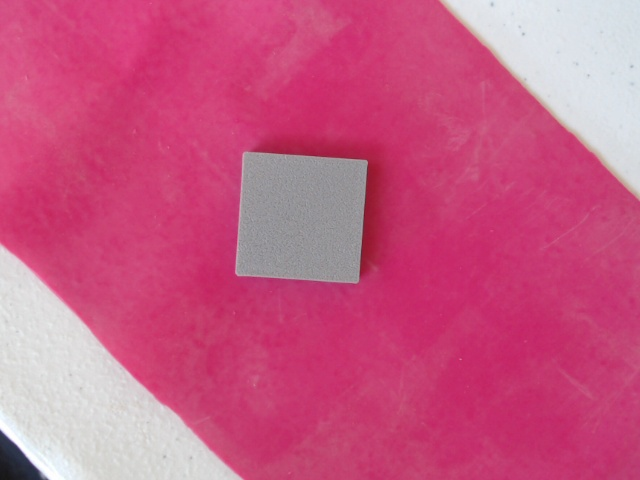Defective: (234, 149, 370, 291)
